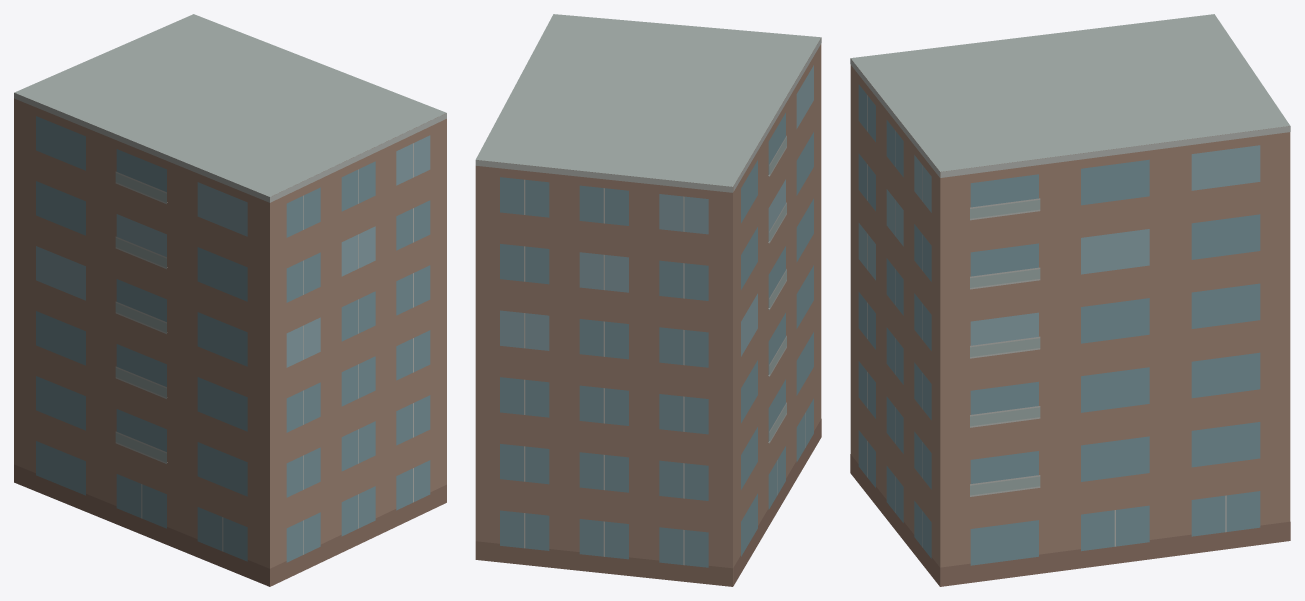
The model's file is survey-upis-32656466.glb.
3 views of the same model, side by side, from view 1: azimuth 30°, elevation 25°; view 2: azimuth 150°, elevation 25°; view 3: azimuth 270°, elevation 25° (orthographic). The views are drawn at different scales.
Visible parts, largest first — view 1: survey-upis-32656466.tmp; view 2: survey-upis-32656466.tmp; view 3: survey-upis-32656466.tmp.
Boxes of the visible parts, left/top/right/bottom form: survey-upis-32656466.tmp: left=14, top=14, right=446, bottom=586; survey-upis-32656466.tmp: left=475, top=14, right=821, bottom=586; survey-upis-32656466.tmp: left=850, top=14, right=1290, bottom=586.
Bounding box in the file's own units: 13.35 × 16.35 × 15.72.
